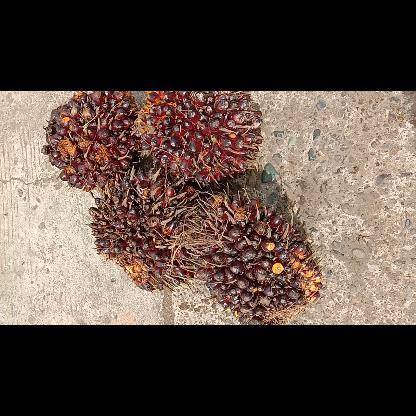Kurang masak: (186, 188, 322, 324), (86, 170, 204, 294), (131, 91, 267, 191), (38, 90, 140, 194)
